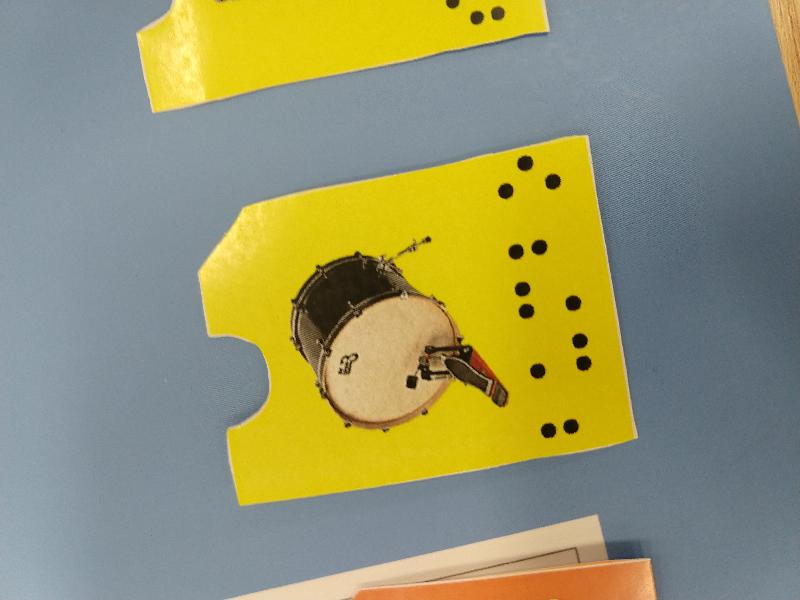bumbo: (189, 128, 648, 511)
